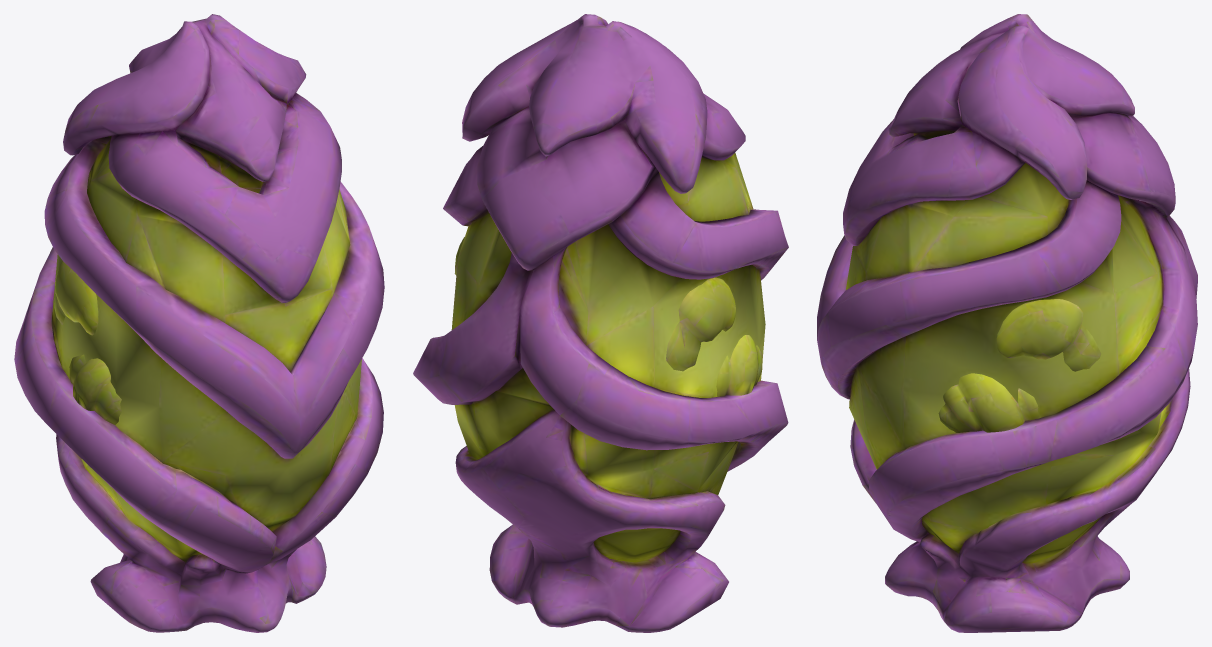
Rendered from swarm_cocoon.glb.
3 views of the same model, side by side, from view 1: azimuth 30°, elevation 25°; view 2: azimuth 150°, elevation 25°; view 3: azimuth 270°, elevation 25° (orthographic).
Visible parts, largest first — view 1: tripo_node_71396bdc-0080-489f-affb-8a9b57798b3f; view 2: tripo_node_71396bdc-0080-489f-affb-8a9b57798b3f; view 3: tripo_node_71396bdc-0080-489f-affb-8a9b57798b3f.
Part boxes in pixels (<box>): tripo_node_71396bdc-0080-489f-affb-8a9b57798b3f: <box>14,14,384,632</box>; tripo_node_71396bdc-0080-489f-affb-8a9b57798b3f: <box>413,14,788,632</box>; tripo_node_71396bdc-0080-489f-affb-8a9b57798b3f: <box>817,14,1197,632</box>.
Size of the model in its own units: 0.5645 by 0.998 by 0.6035.
1 material, 1 textured.
